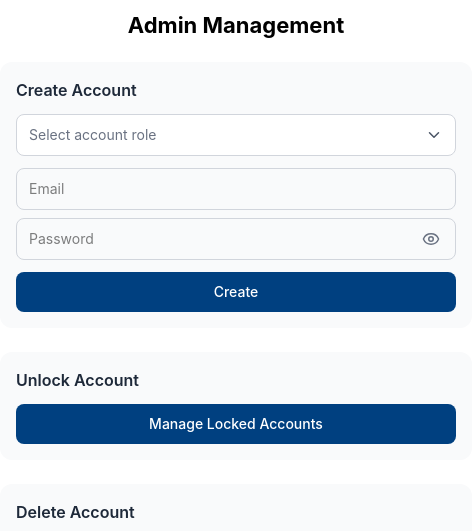
it: AdminManagement › validates invalid email
Type "wrong-email" into the field with placeholder "Email" at (236,189), box [16,168,456,210]
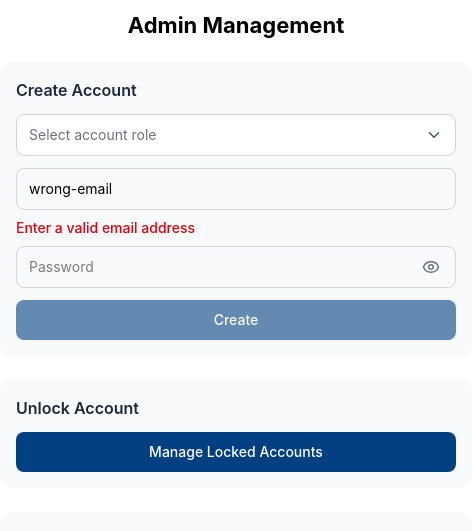
Expected: the text "Enter a valid email address" is shown, [16,219,195,236]
